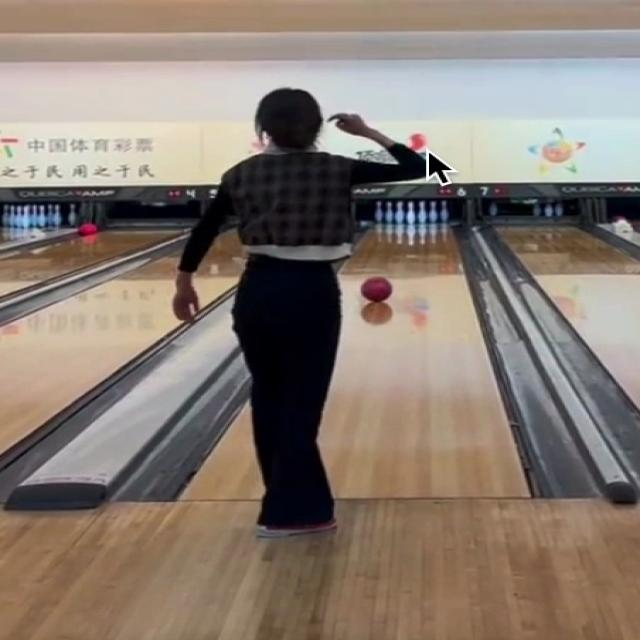alley: (317, 223, 528, 497), (177, 408, 262, 507)
balls: (360, 276, 394, 303)
bottle: (374, 200, 449, 225)
